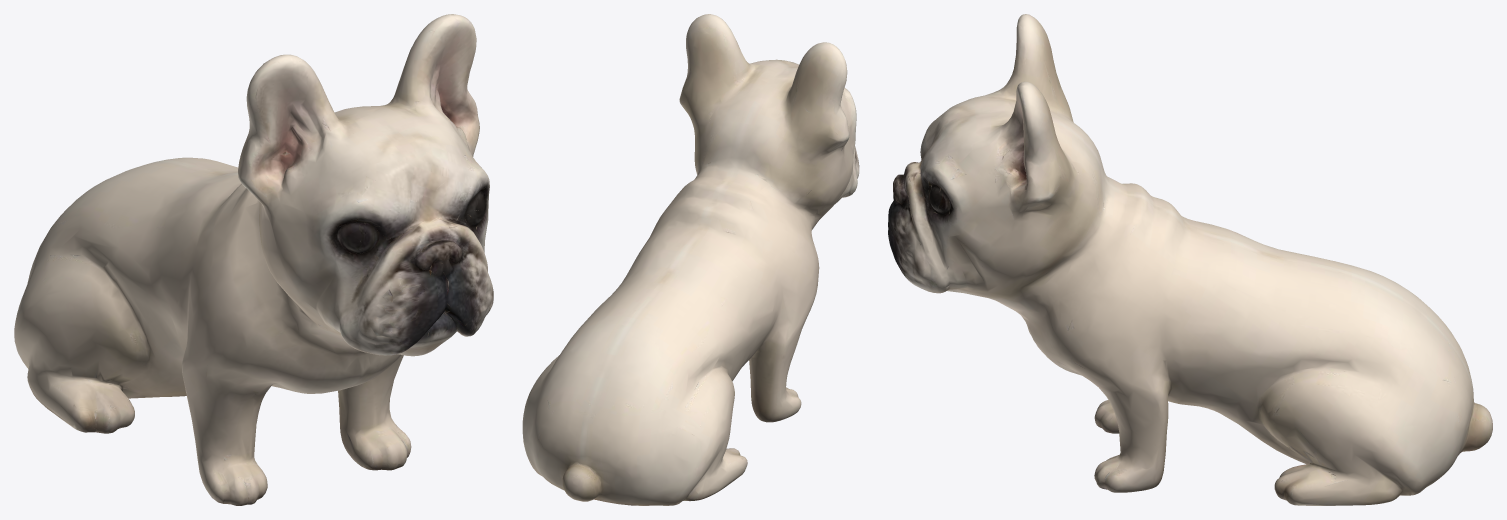
The model's file is dog-frenchie-white.glb.
The picture shows the model from 3 angles, left to right: view 1: azimuth 30°, elevation 25°; view 2: azimuth 150°, elevation 25°; view 3: azimuth 270°, elevation 25°; orthographic projection. The views are drawn at different scales.
Parts seen in each view (by area): view 1: Mesh_0; view 2: Mesh_0; view 3: Mesh_0.
Part boxes in pixels (box(x1,y1,x2,y2)): Mesh_0: box(14, 14, 493, 505); Mesh_0: box(522, 14, 859, 505); Mesh_0: box(888, 14, 1492, 505).
Size of the model in its own units: 0.8101 by 1.4 by 1.9.
Materials: 1 (1 with a texture image).
